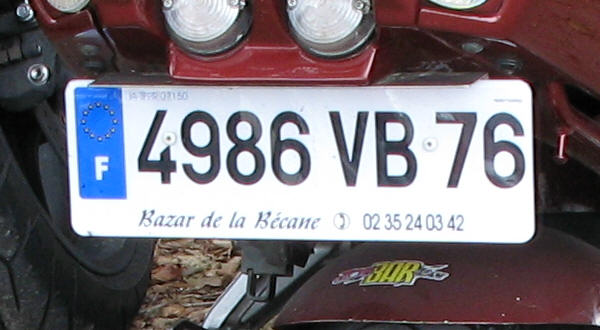license_plate: (64, 79, 536, 242)
